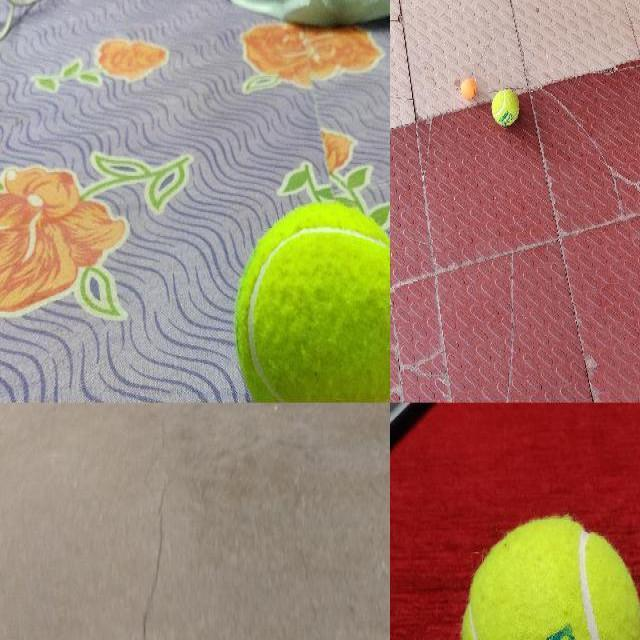tennis-ball: (232, 200, 389, 402), (460, 512, 639, 639), (491, 88, 519, 126)
